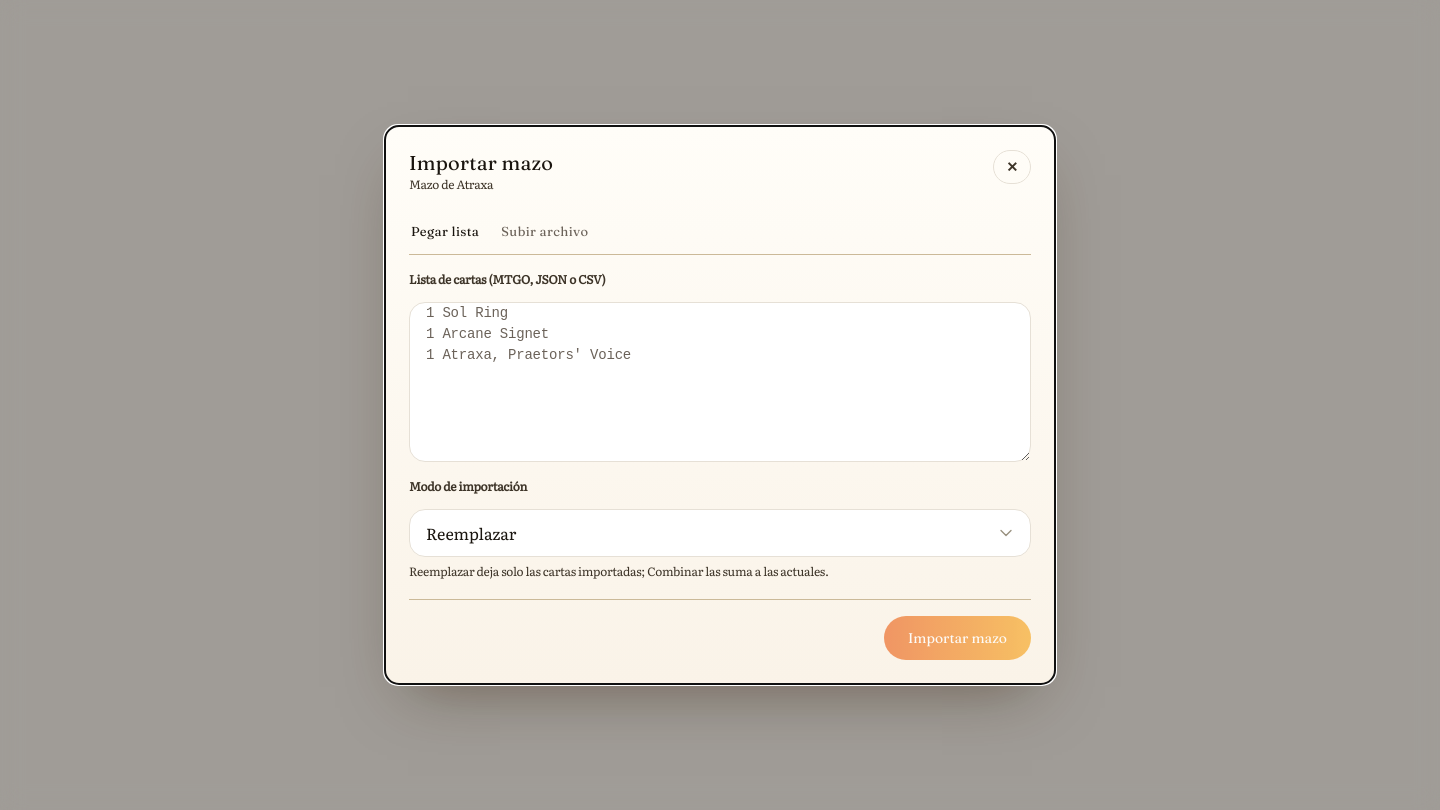
Test case: DeckImportDialog › ignorar quita la entrada de la lista
This screenshot has width=1440, height=810.
Type "1 Sol Ring" into the text box labelled "Lista de cartas" at (720, 382), box x1=409 y1=302 x2=1031 y2=462
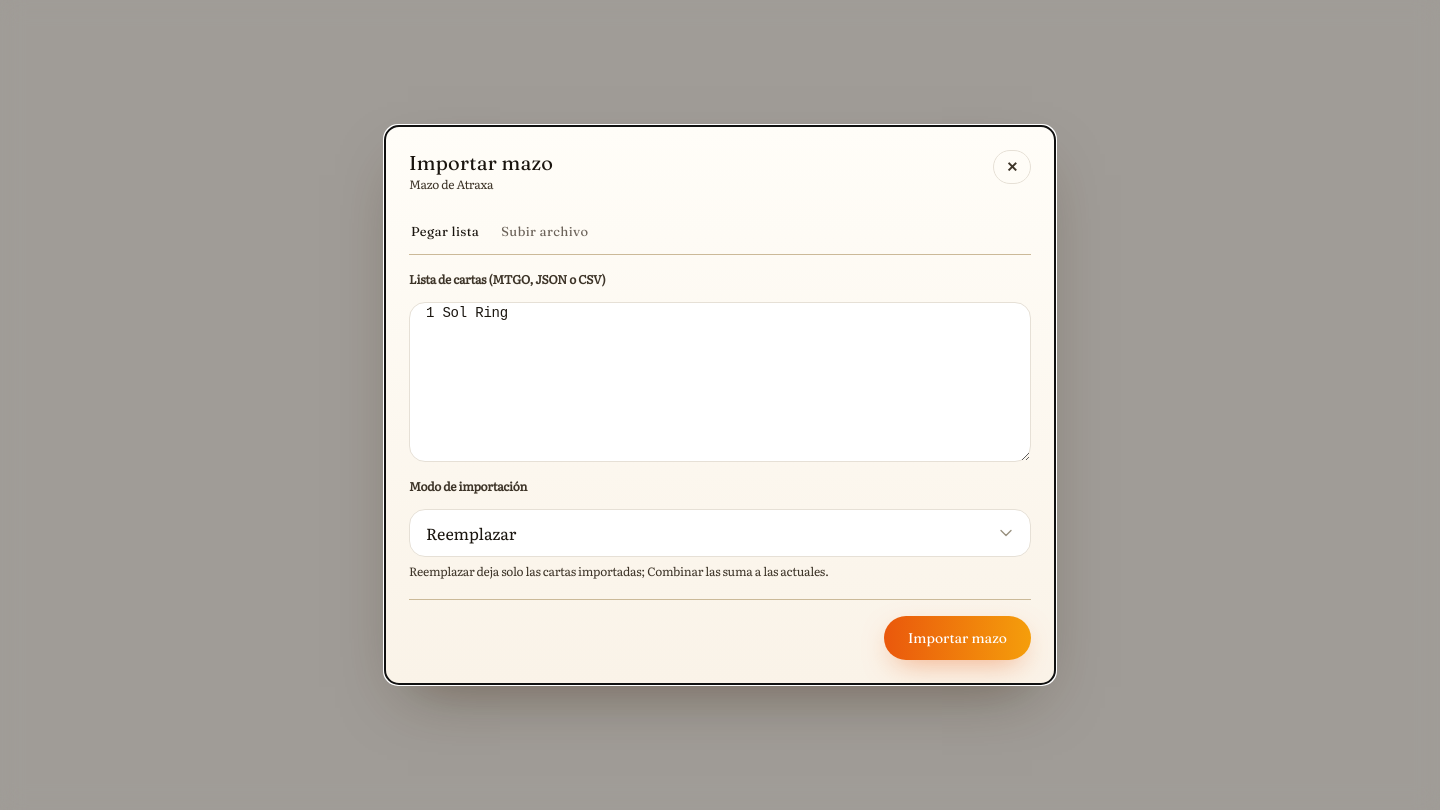
Click the button "Importar mazo" at (958, 638), box x1=884 y1=616 x2=1031 y2=660
Wait 2000 ms
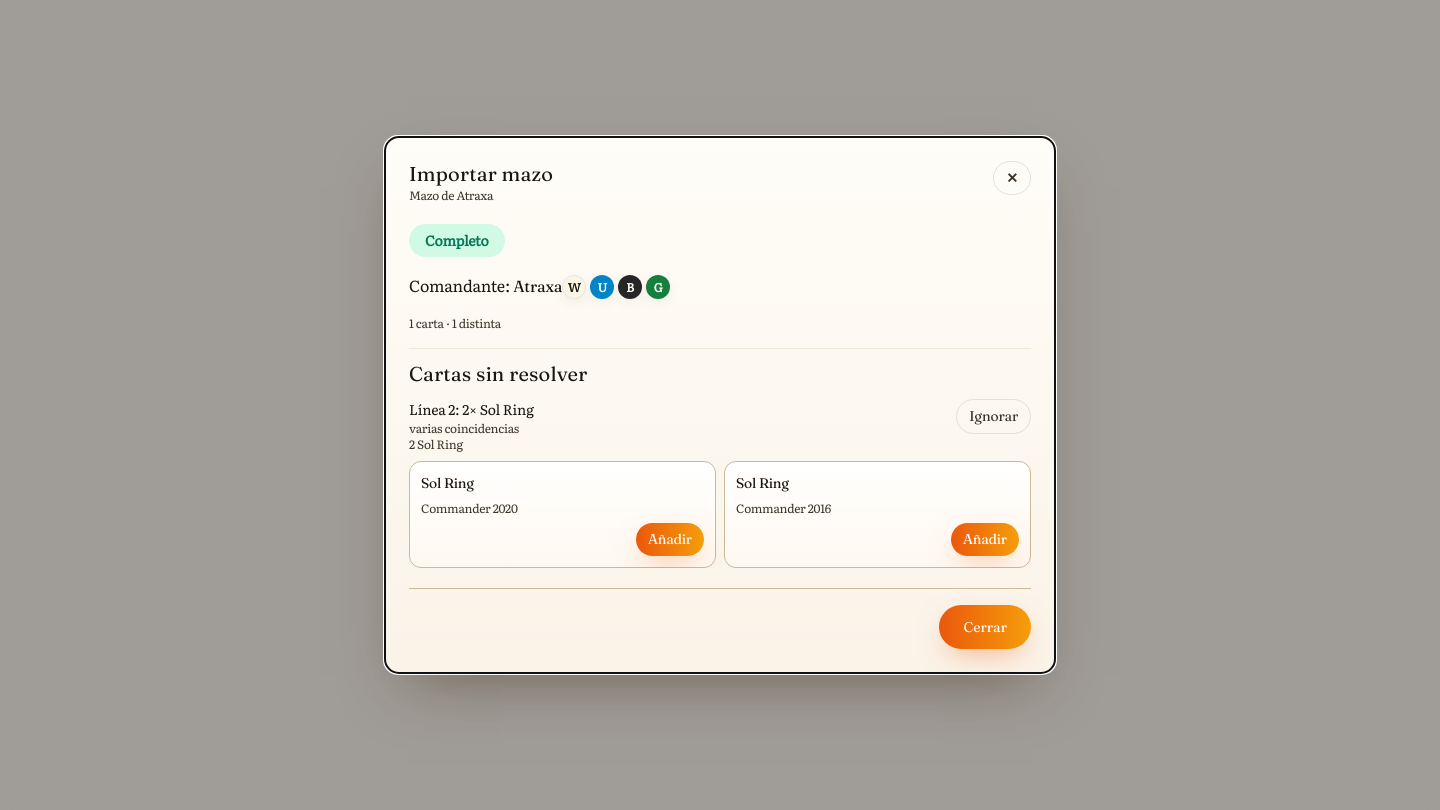
Now the text "Línea 2: 2× Sol Ring" is shown, box x1=409 y1=399 x2=534 y2=419
Click the button "Ignorar" at (994, 416), box x1=956 y1=399 x2=1031 y2=434
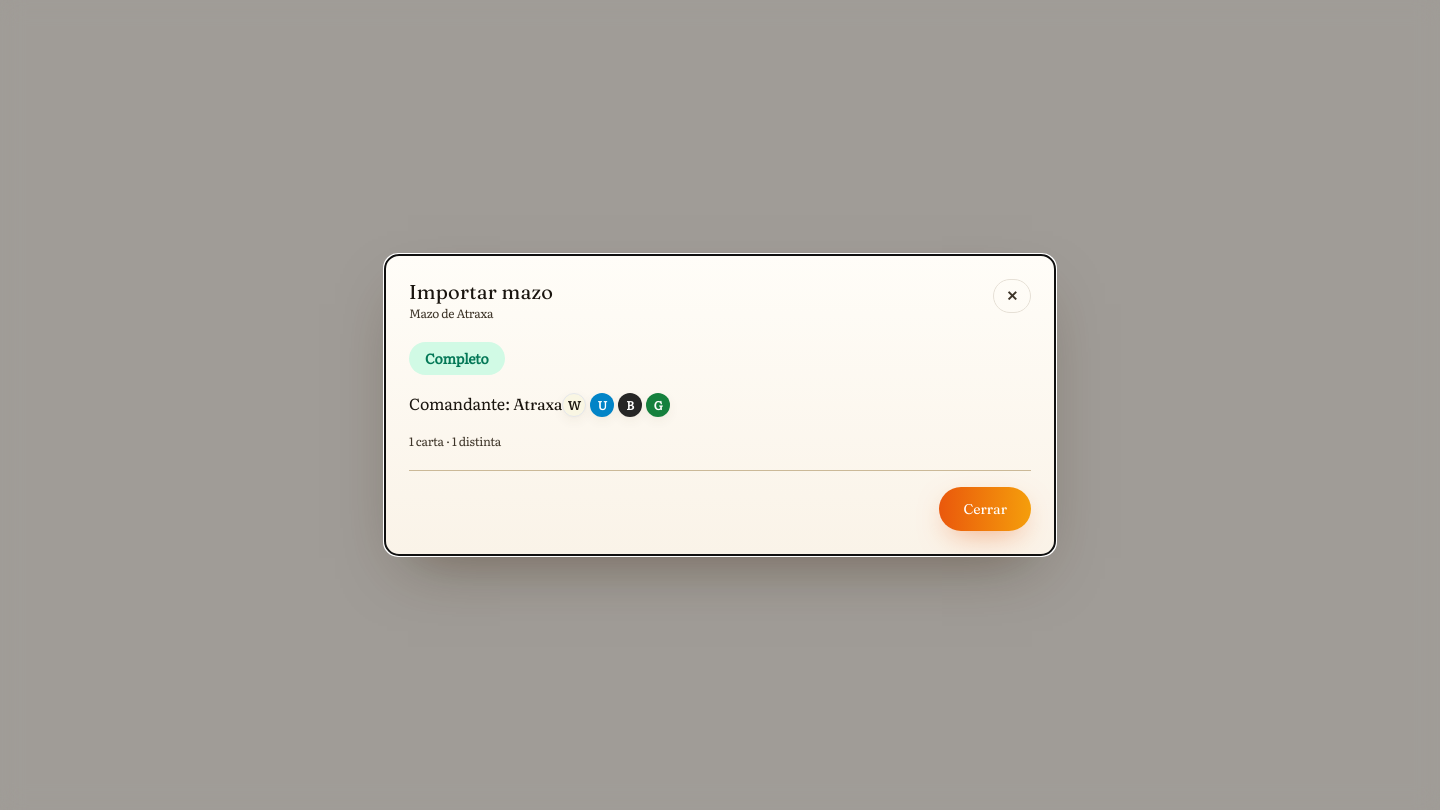
Now the text "Línea 2" is gone
